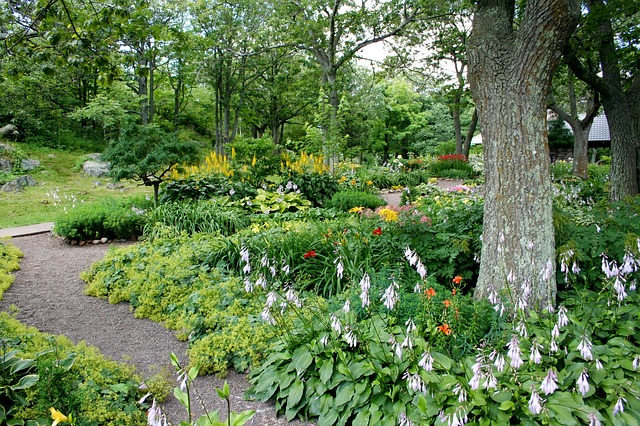tree: (464, 6, 566, 323), (582, 45, 639, 205), (559, 101, 600, 177)
